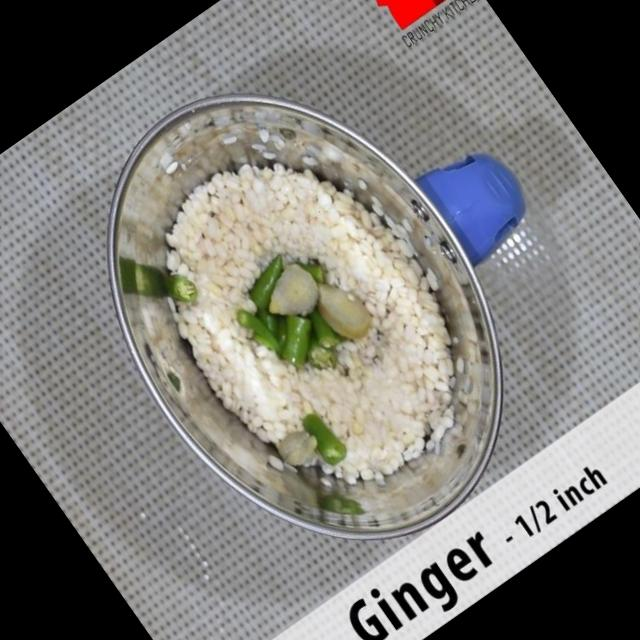rice: (166, 134, 463, 464)
